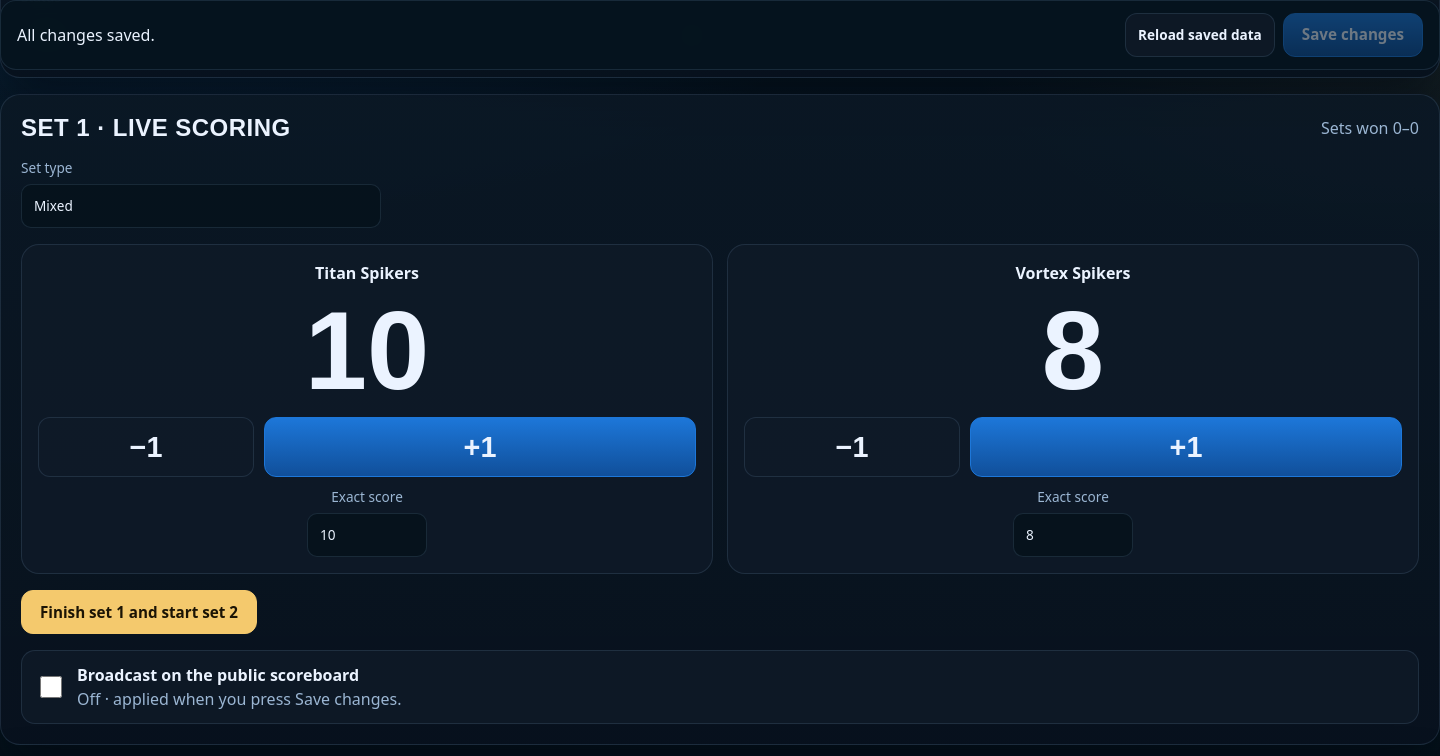
Scenario: match editor: conflicting edits › 'keep my edits' re-bases onto the newer version so the next save is a deliberate overwrite
Later steps or results of the test are not shown.
(page scrolled)
What coordinates should you click on to do the following:
click the button named "add a point to titan spikers"
I would click on:
 (480, 447)
Its box is [264,417,696,477].
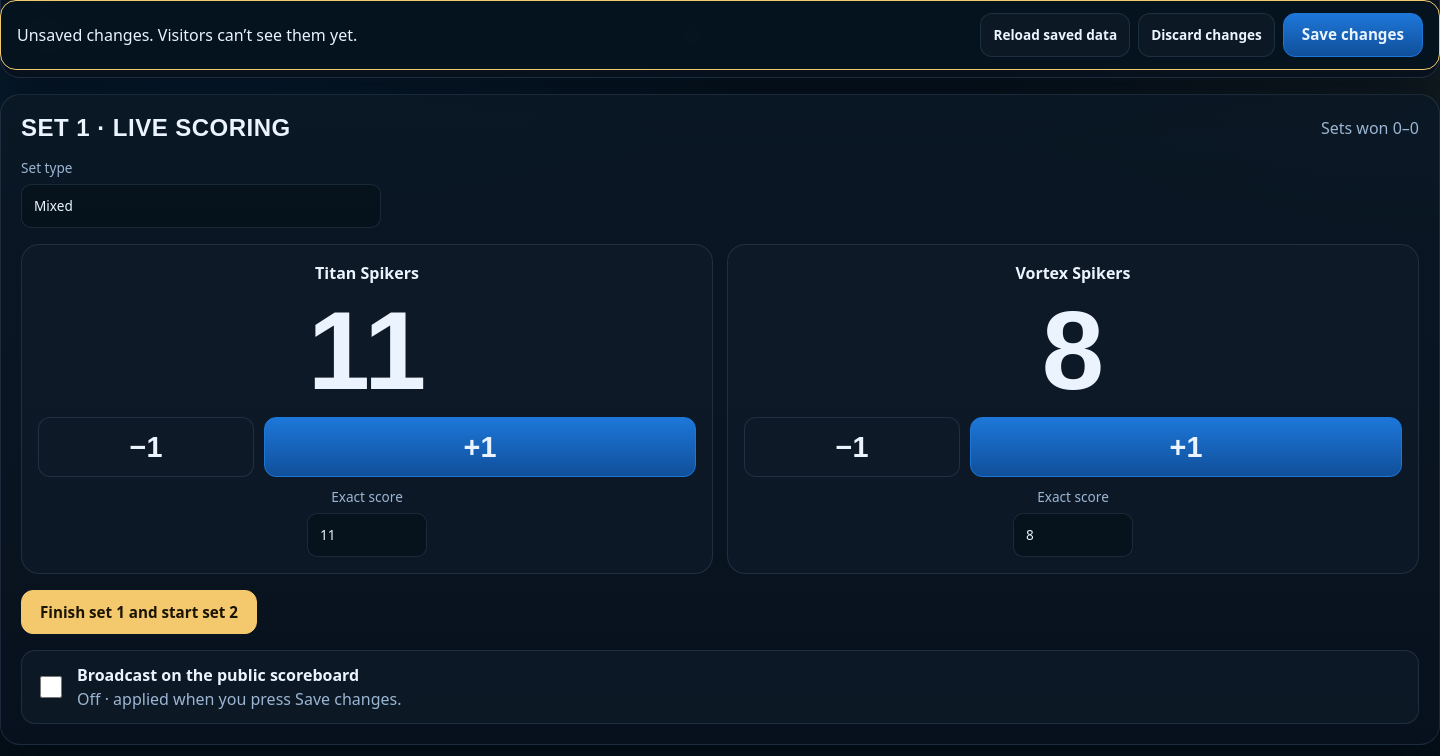
What coordinates should you click on to do the following:
click the button "Save changes"
I would click on:
 (1353, 35)
Its box is [1283,13,1423,57].
(page scrolled)
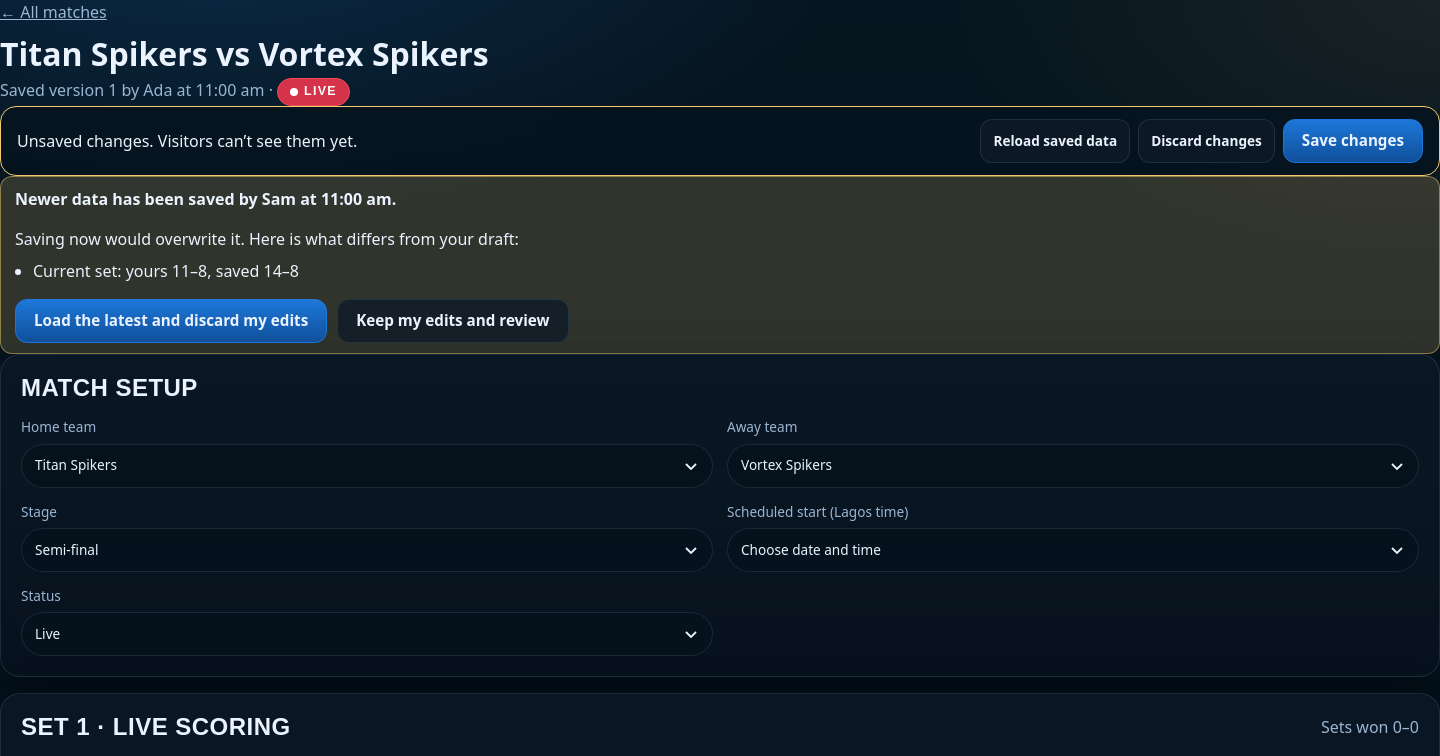
What coordinates should you click on to do the following:
click the button "Keep my edits and review"
I would click on:
 (453, 321)
Its box is [337,299,568,343].
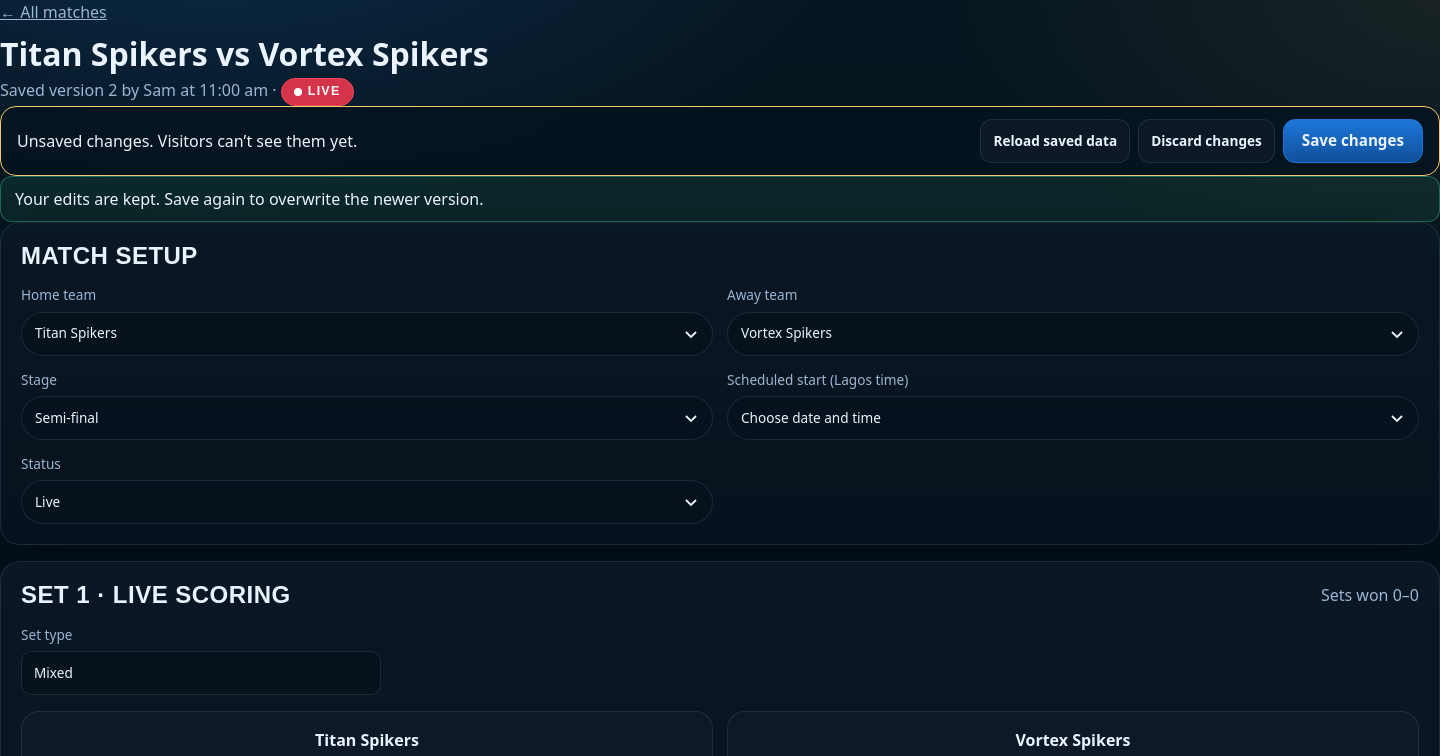
Expected: the text "Your edits are kept. Save again to overwrite the newer version." is shown, [0,176,1439,222]
